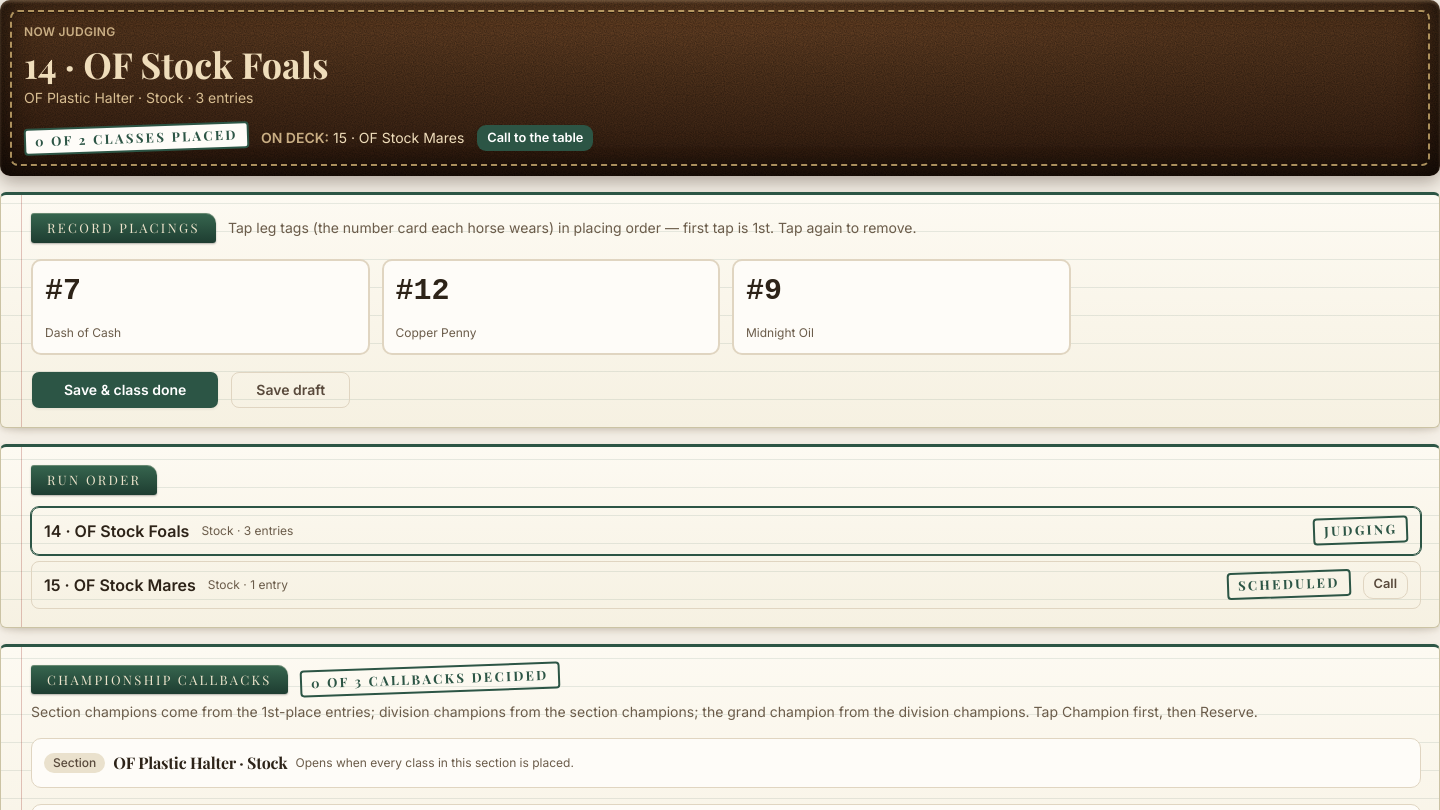
RingConsole — Barn Mode (offline queue) › queues a thrown save and shows the pending indicator
Click the button with test id "ring-entry".
click(63, 291)  # box [31, 259, 370, 355]
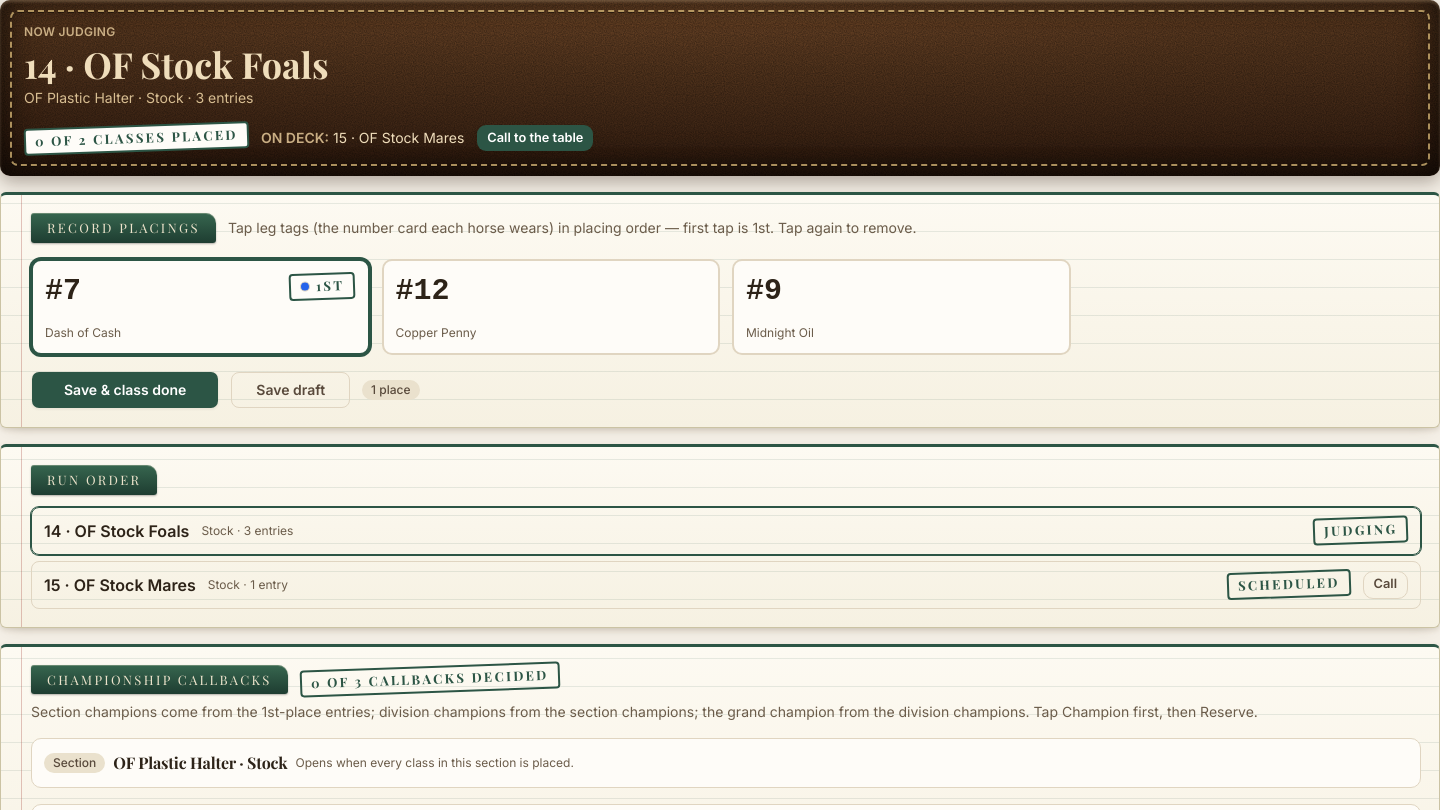
Click the button with test id "ring-save-done".
click(125, 390)  # box [31, 371, 219, 409]
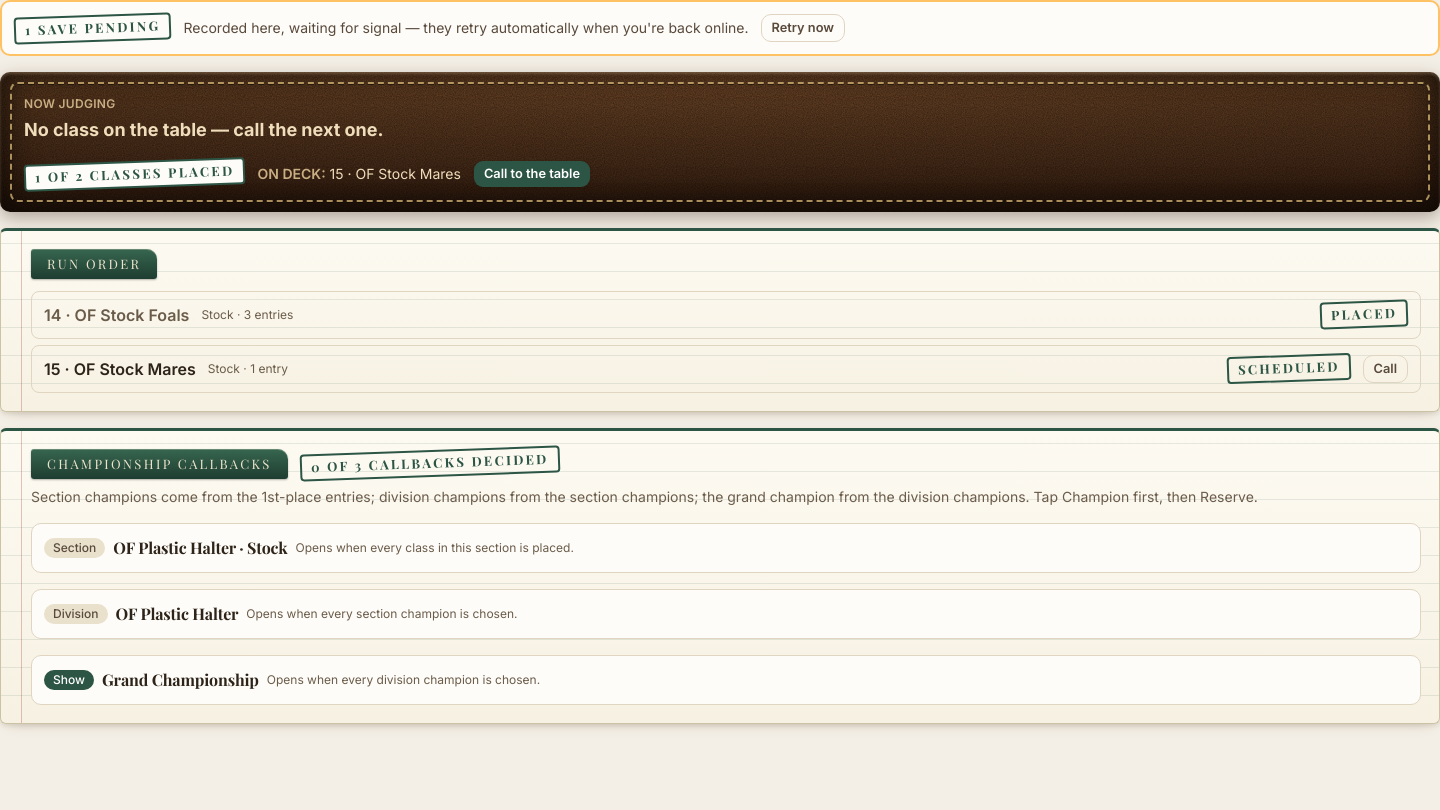
Expected: the message with test id "pending-saves" shows "1 save pending", [0, 0, 1439, 56]
Expected: the message with test id "pending-saves" shows "waiting for signal", [184, 19, 748, 36]
Expected: the text with test id "ring-progress" reads "1 of 2 classes placed", [24, 157, 246, 191]
